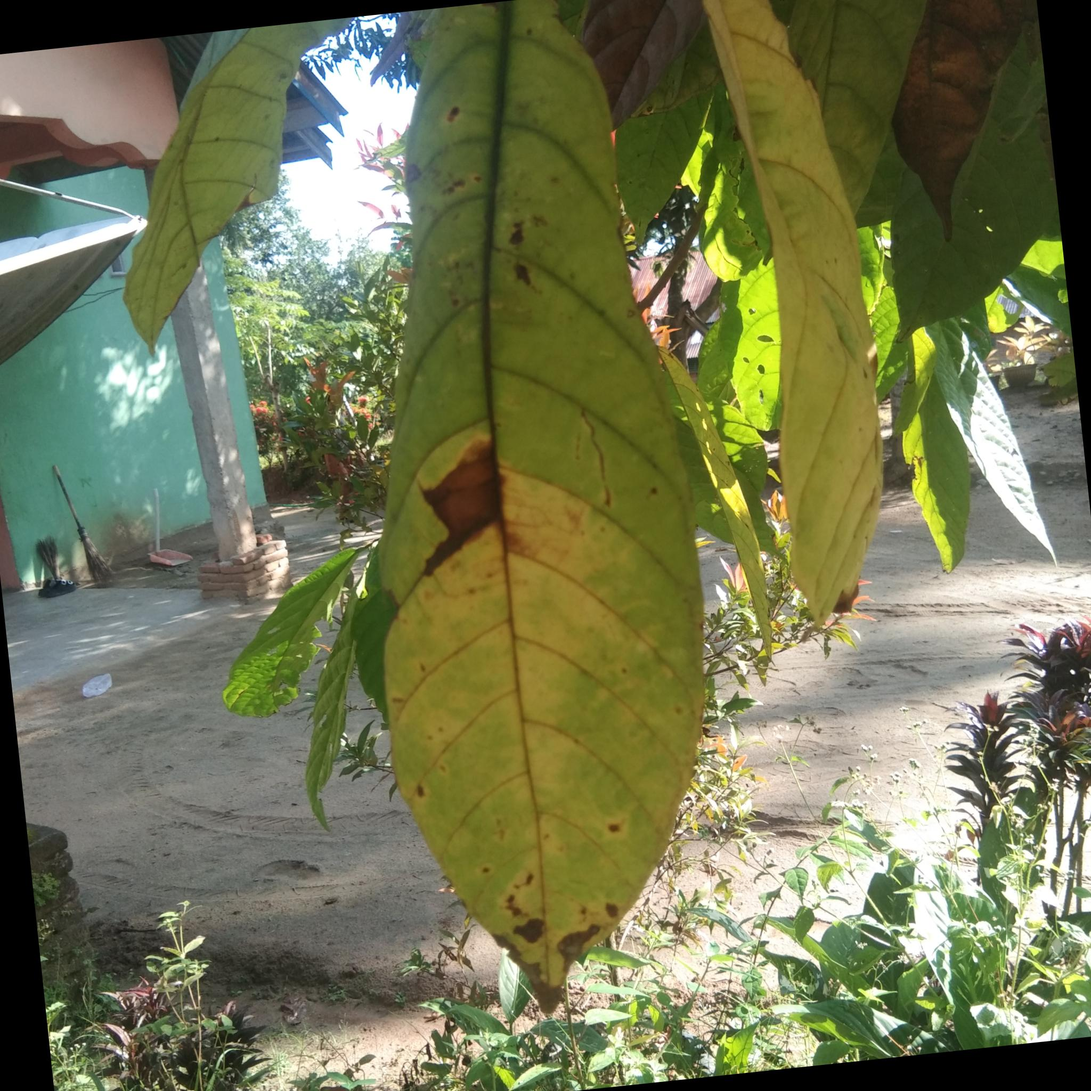Fosforo: (381, 0, 705, 1019)
